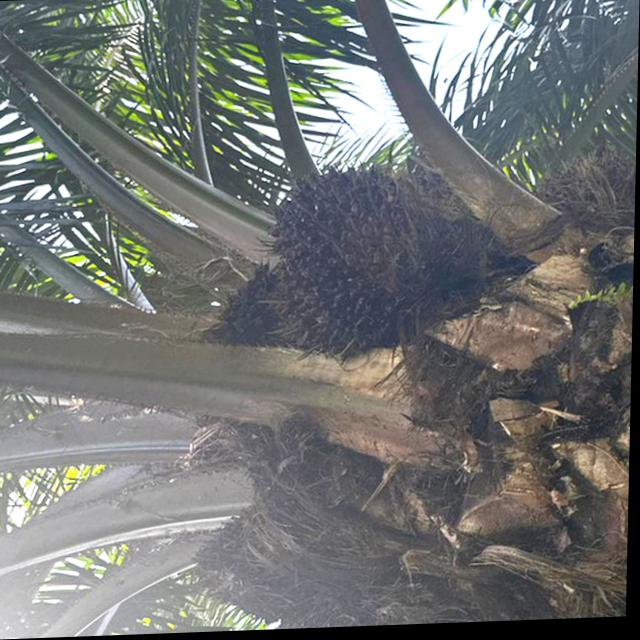ripe: (256, 166, 440, 371)
